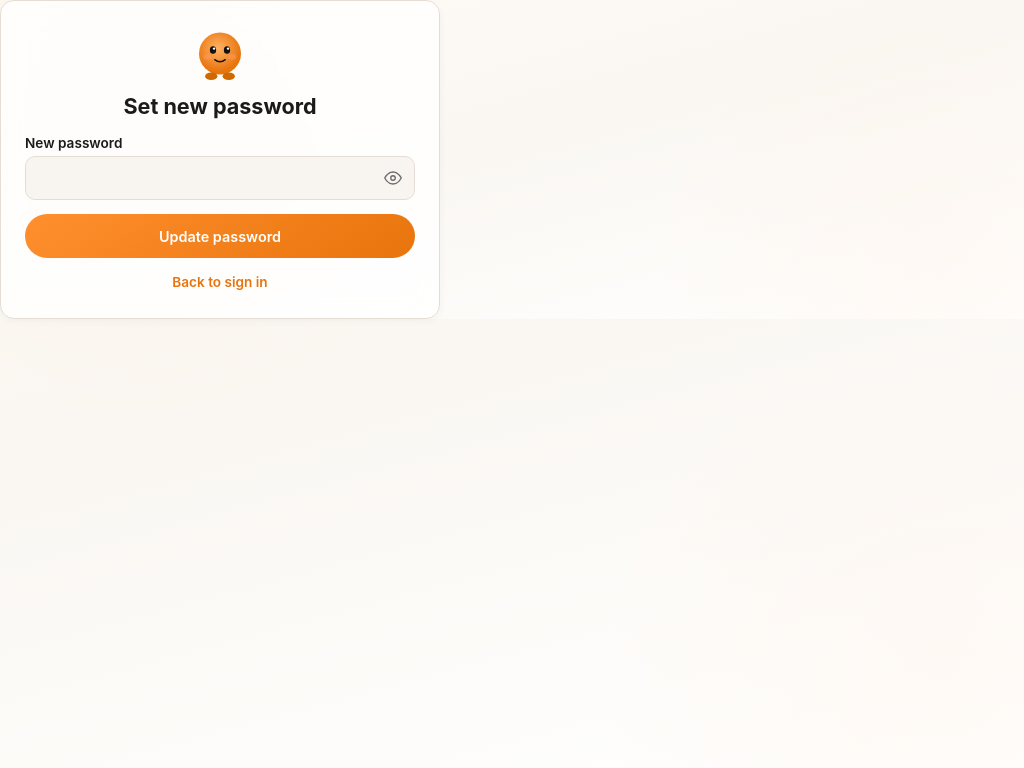
Test: AuthForm › error handling per status code › 410 → "link has expired"
The width and height of the screenshot is (1024, 768).
Type "NewPass1!" into the password field with id "auth-password" at (220, 178), box [25,156,415,200]
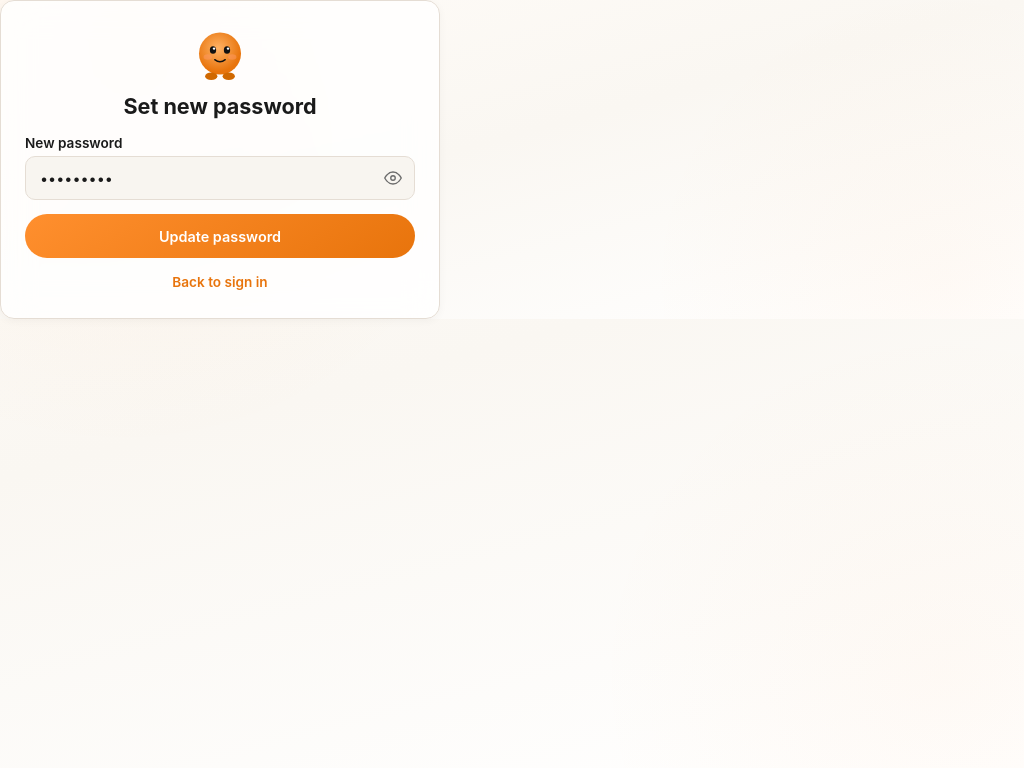
Submit the form, box [25,135,415,258]
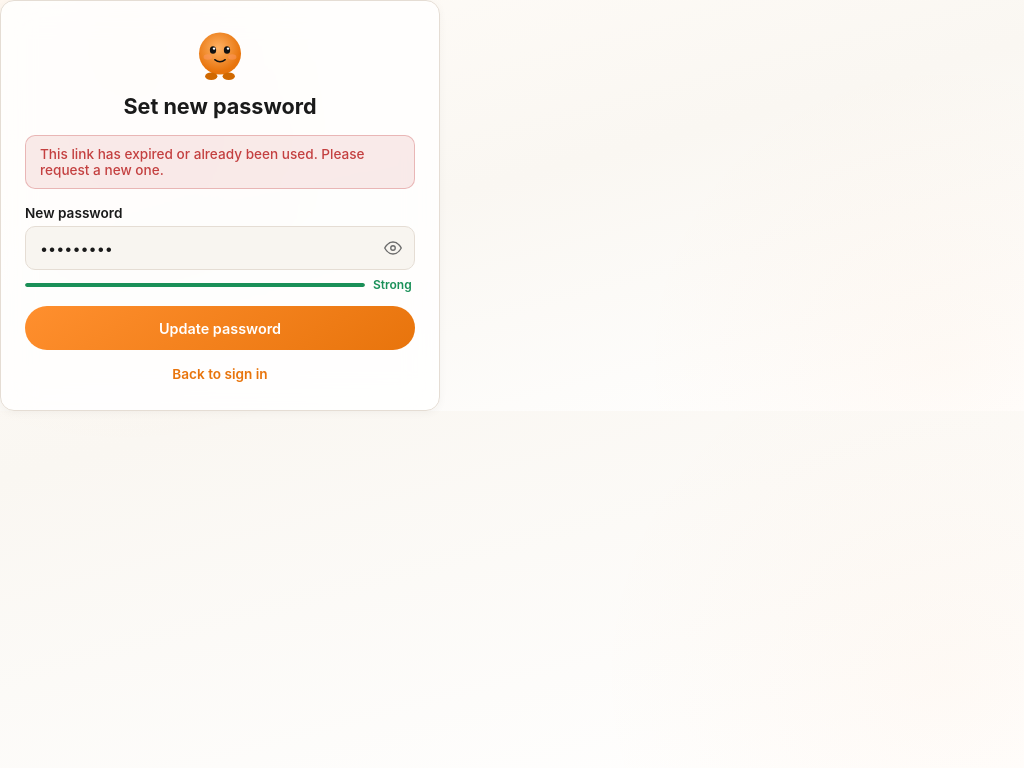
Expected: the message "This link has expired or already been used. Please request a new one." is shown, [25,135,415,189]
Expected: the message with class "error-msg" shows "expired", [40,146,365,178]
